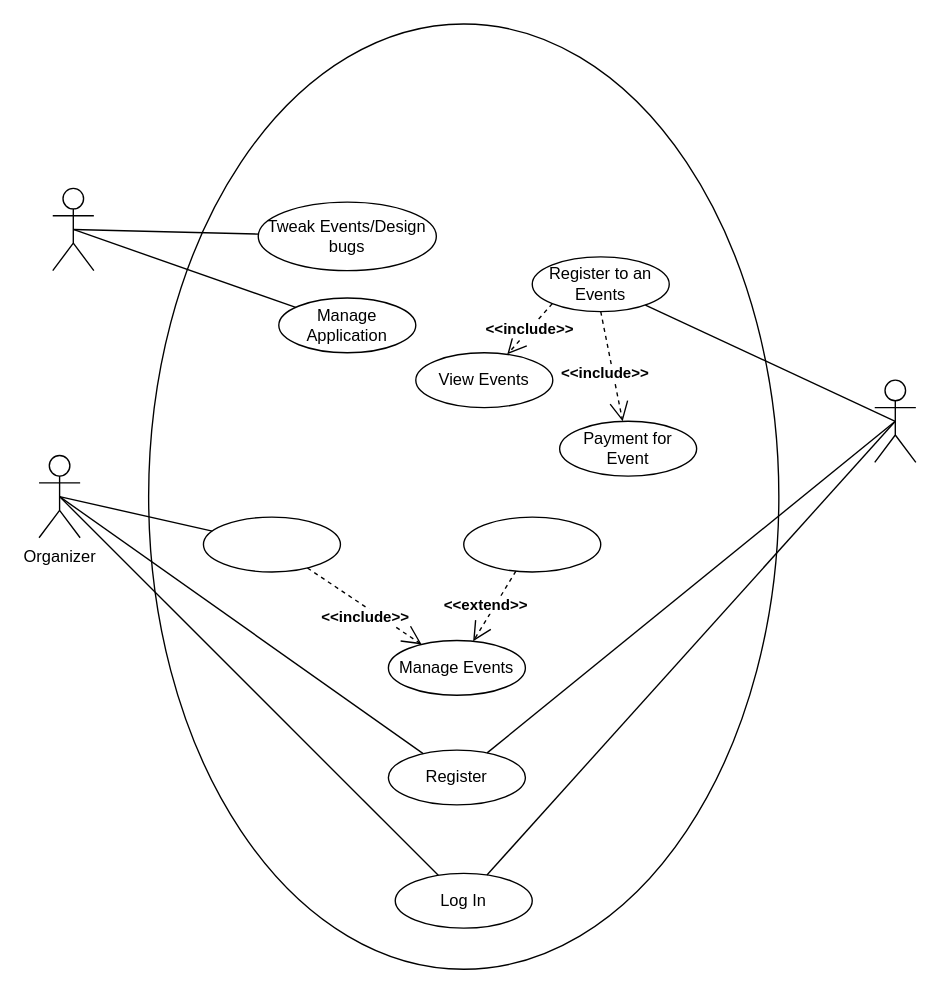
The diagram is 940 pixels wide and 993 high, and some of its shapes have lost their labels. The shapes that lost their labels are listed below. From the top down, each one's centre as x and y in pixels, then its label:
At (x=72, y=229): "Admin".
At (x=894, y=420): "User".
At (x=271, y=544): "Create Events".
At (x=531, y=544): "Refund Payment".
